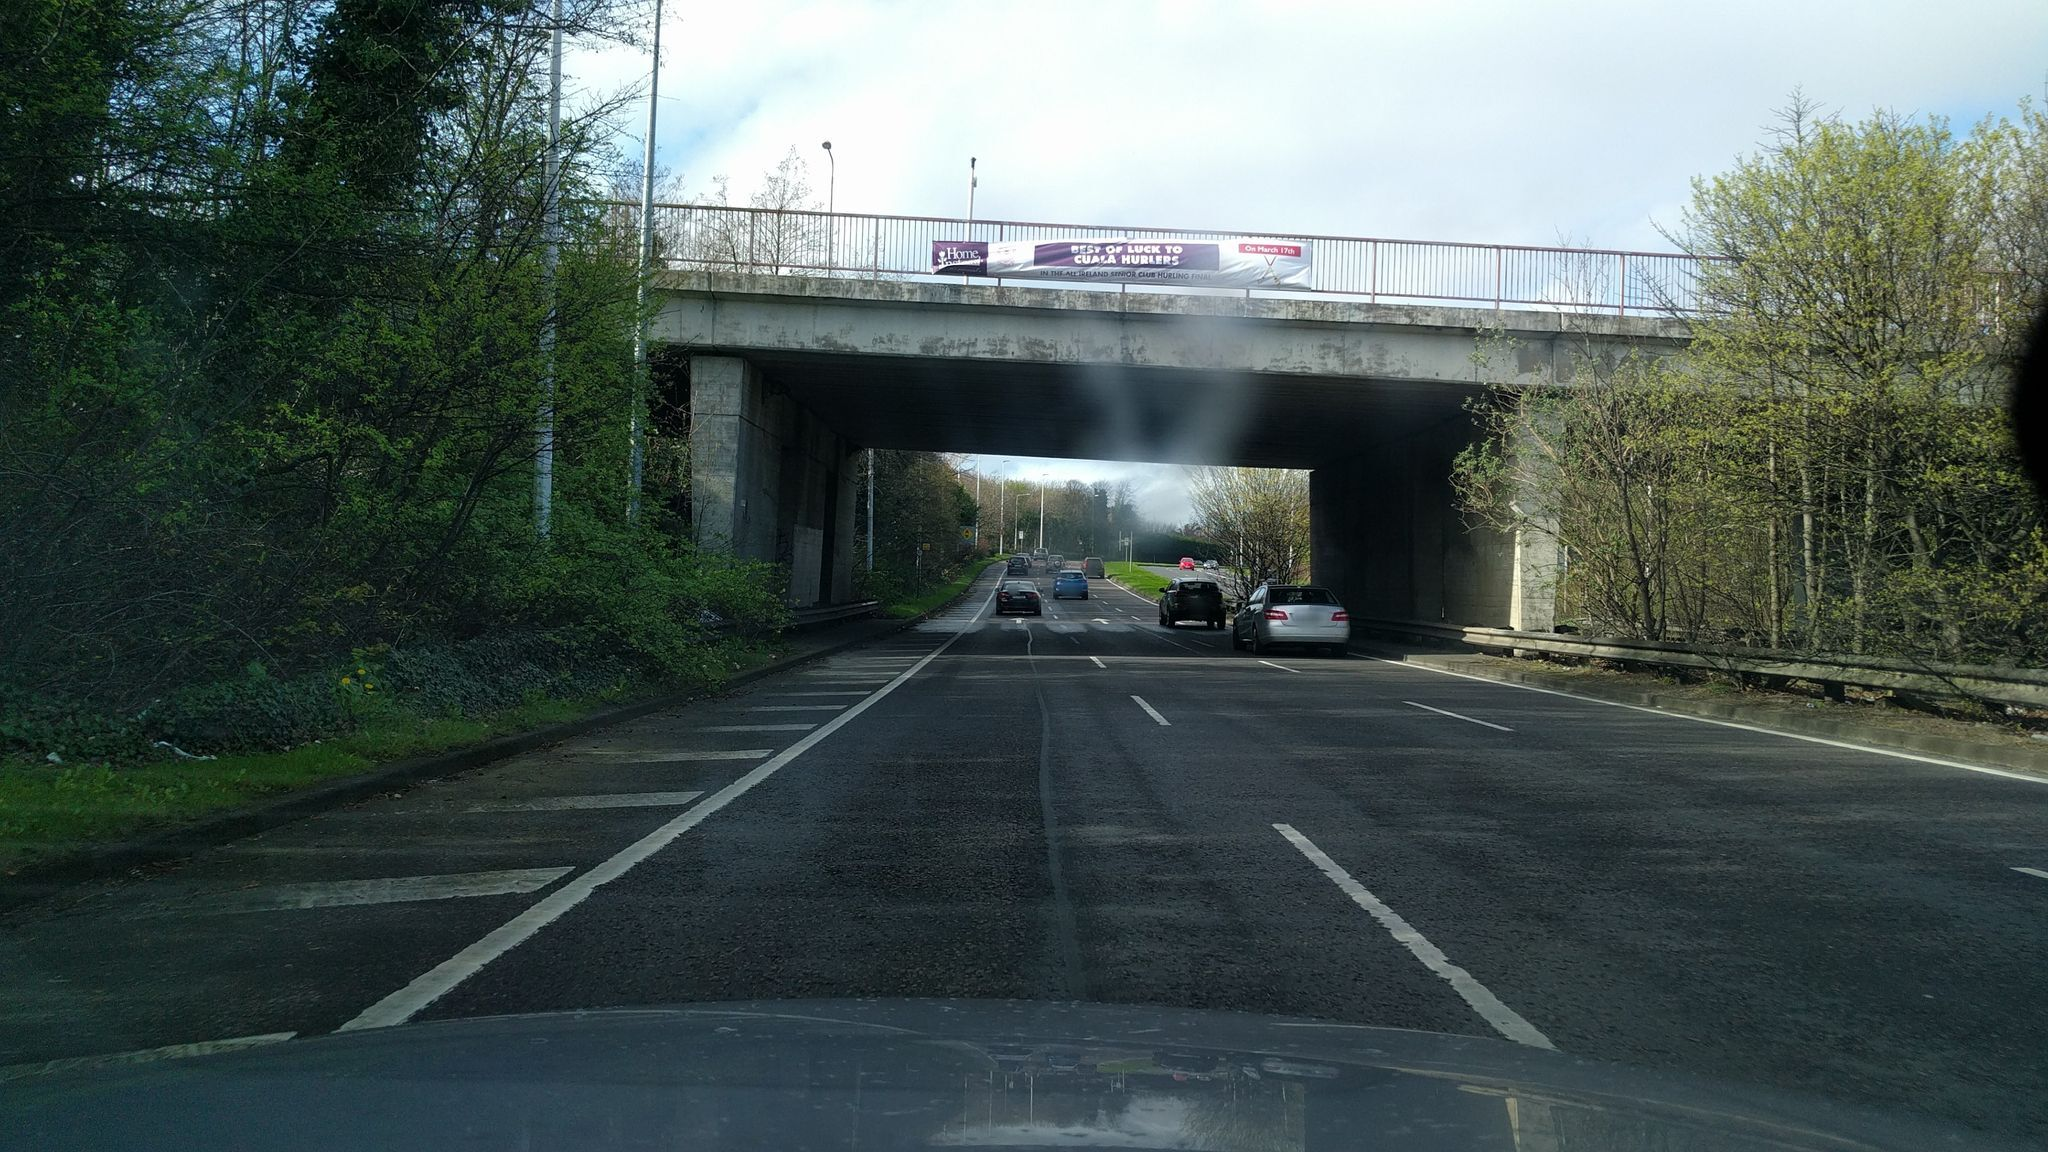vinyl banner: (916, 205, 1326, 293)
